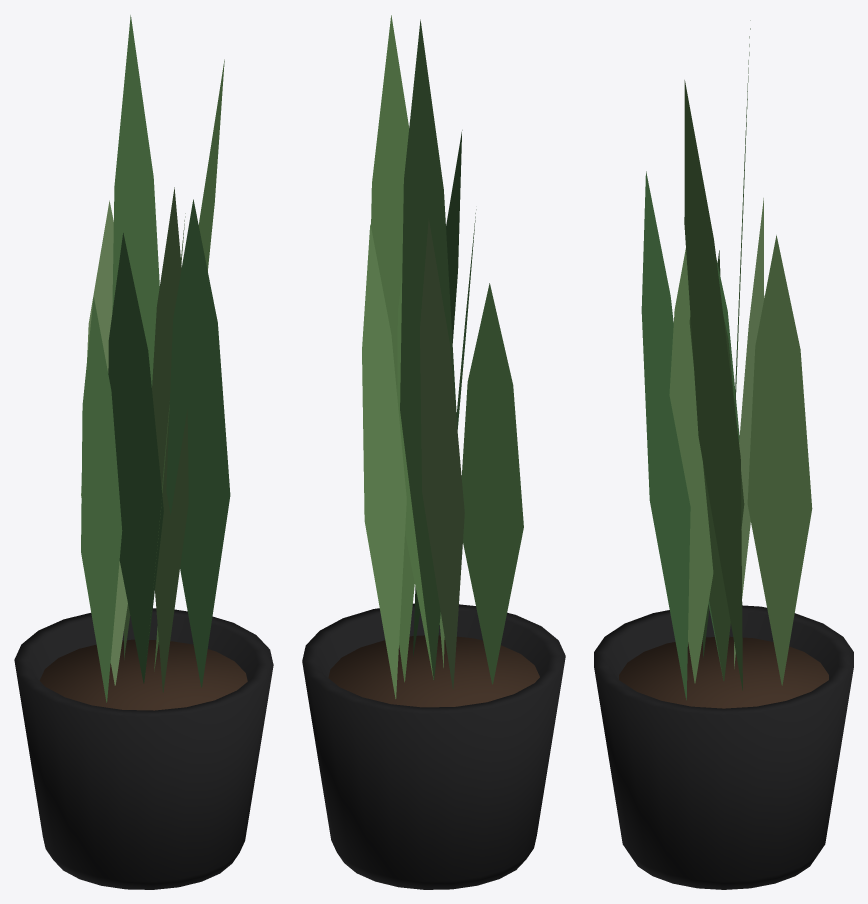
File: i_plant_8.glb
3 renders of one model, left to right at view 1: azimuth 30°, elevation 25°; view 2: azimuth 150°, elevation 25°; view 3: azimuth 270°, elevation 25°, orthographic.
Parts seen in each view (by area): view 1: o, o.010, o.005, o.007, o.001, o.002, o.009, o.006, o.003; view 2: o, o.007, o.002, o.004, o.006, o.001, o.003, o.008, o.010, o.005; view 3: o, o.004, o.003, o.010, o.001, o.009, o.006, o.008, o.005.
Part boxes in pixels (x1,y1,x2,y2): o: [14, 608, 273, 889]; o.010: [166, 199, 230, 687]; o.005: [108, 233, 163, 683]; o.007: [81, 297, 122, 702]; o.001: [39, 639, 247, 710]; o.002: [112, 15, 159, 387]; o.009: [152, 187, 188, 692]; o.006: [81, 200, 127, 685]; o.003: [154, 59, 224, 671]; o: [302, 603, 565, 889]; o.007: [461, 283, 523, 684]; o.002: [400, 19, 456, 679]; o.004: [362, 224, 406, 698]; o.006: [420, 218, 464, 689]; o.001: [328, 635, 539, 707]; o.003: [371, 15, 414, 682]; o.008: [397, 275, 433, 679]; o.010: [413, 130, 462, 656]; o.005: [434, 209, 476, 673]; o: [594, 605, 853, 889]; o.004: [747, 235, 812, 685]; o.003: [684, 80, 742, 690]; o.010: [641, 171, 690, 700]; o.001: [619, 636, 828, 708]; o.009: [669, 248, 713, 683]; o.006: [734, 198, 764, 668]; o.008: [689, 315, 744, 680]; o.005: [708, 258, 739, 677].
Bounding box in the file's own units: 0.2 × 0.7031 × 0.198.
